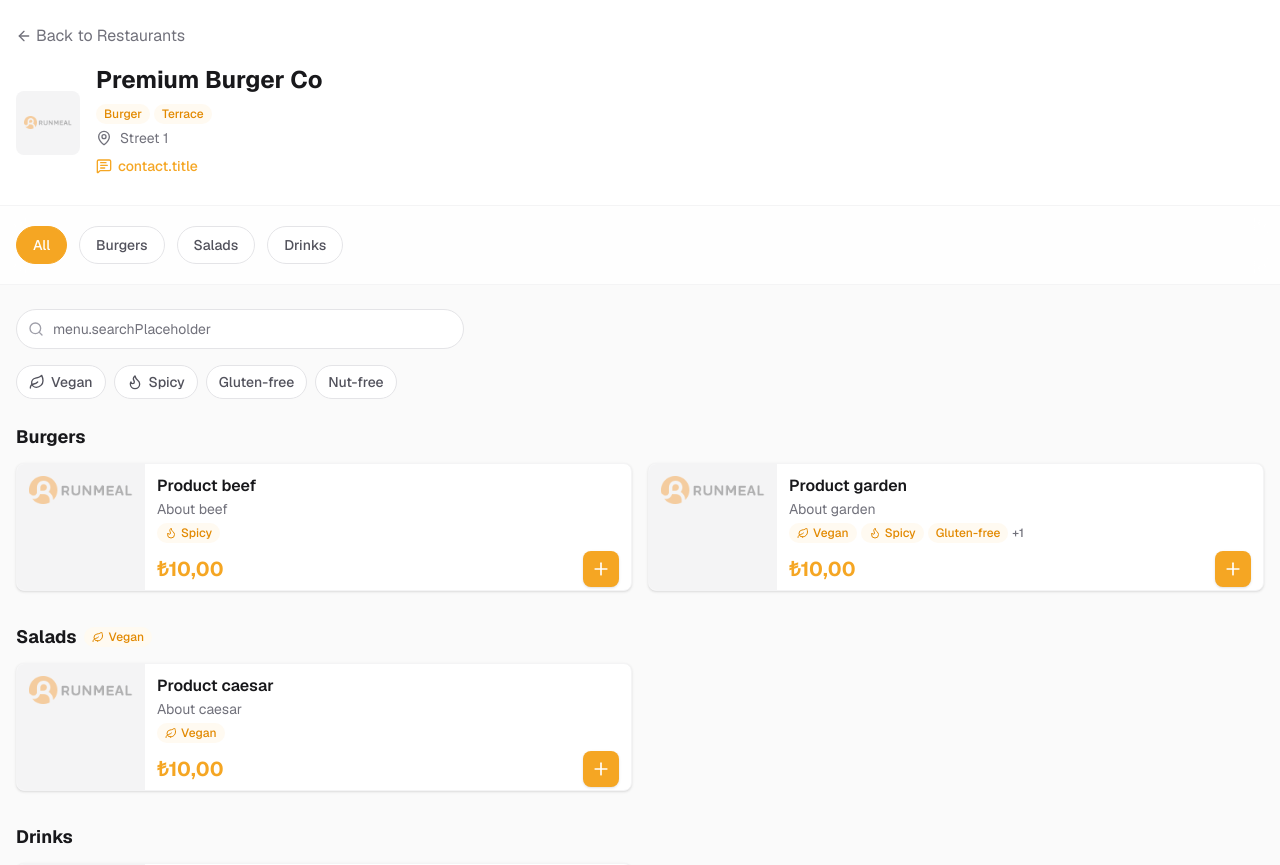
Test case: <BranchView /> menu tags › offers quick filters for the tags on the menu, and hides categories left empty
What coordinates should you click on to do the following:
click the button "Vegan"
I would click on:
 (61, 382)
Its box is [16, 365, 106, 399].
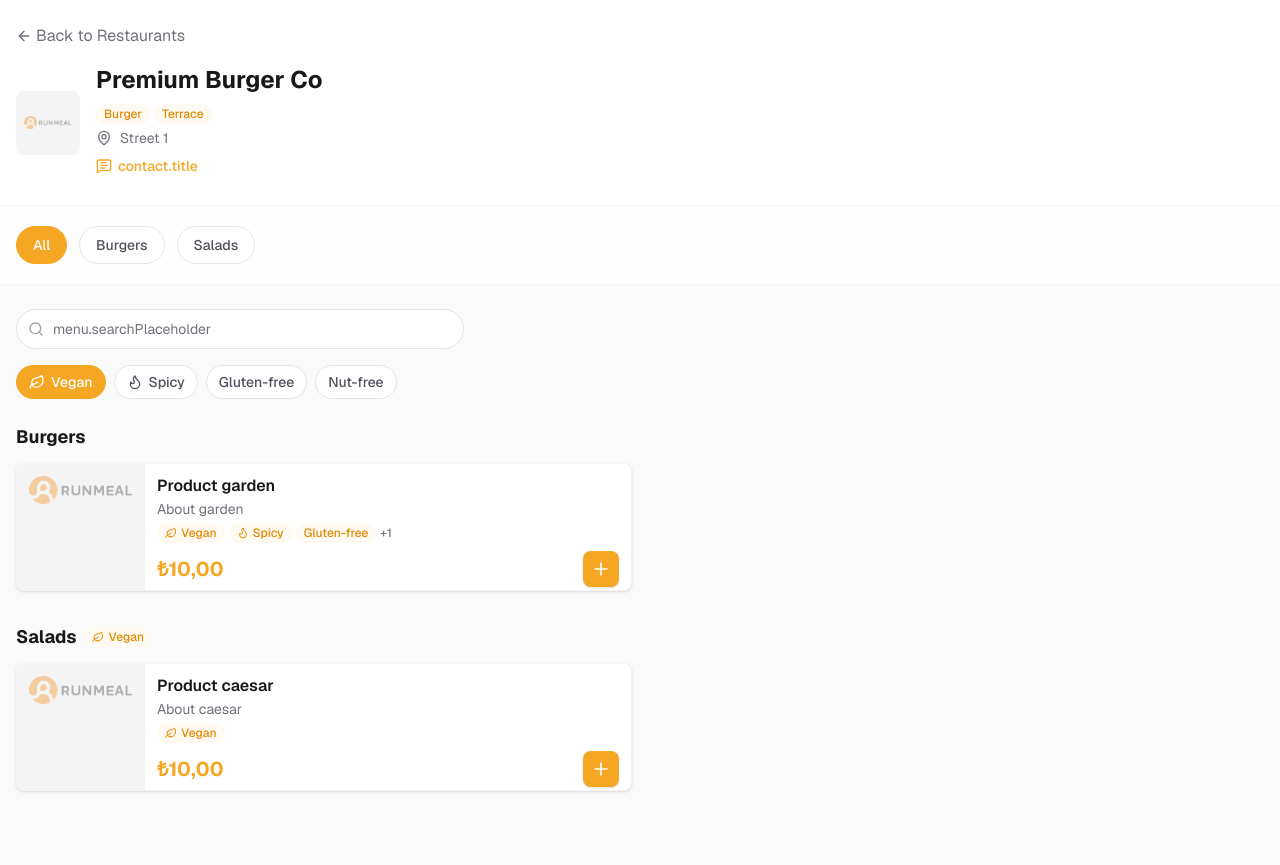
expect the heading "Product garden" is shown: met, box [157, 475, 275, 496]
expect the heading "Product beef" is gone: met
expect the button "Drinks" is gone: met
What coordinates should you click on to do the following:
click the button "Vegan"
I would click on:
 (61, 382)
Its box is [16, 365, 106, 399].
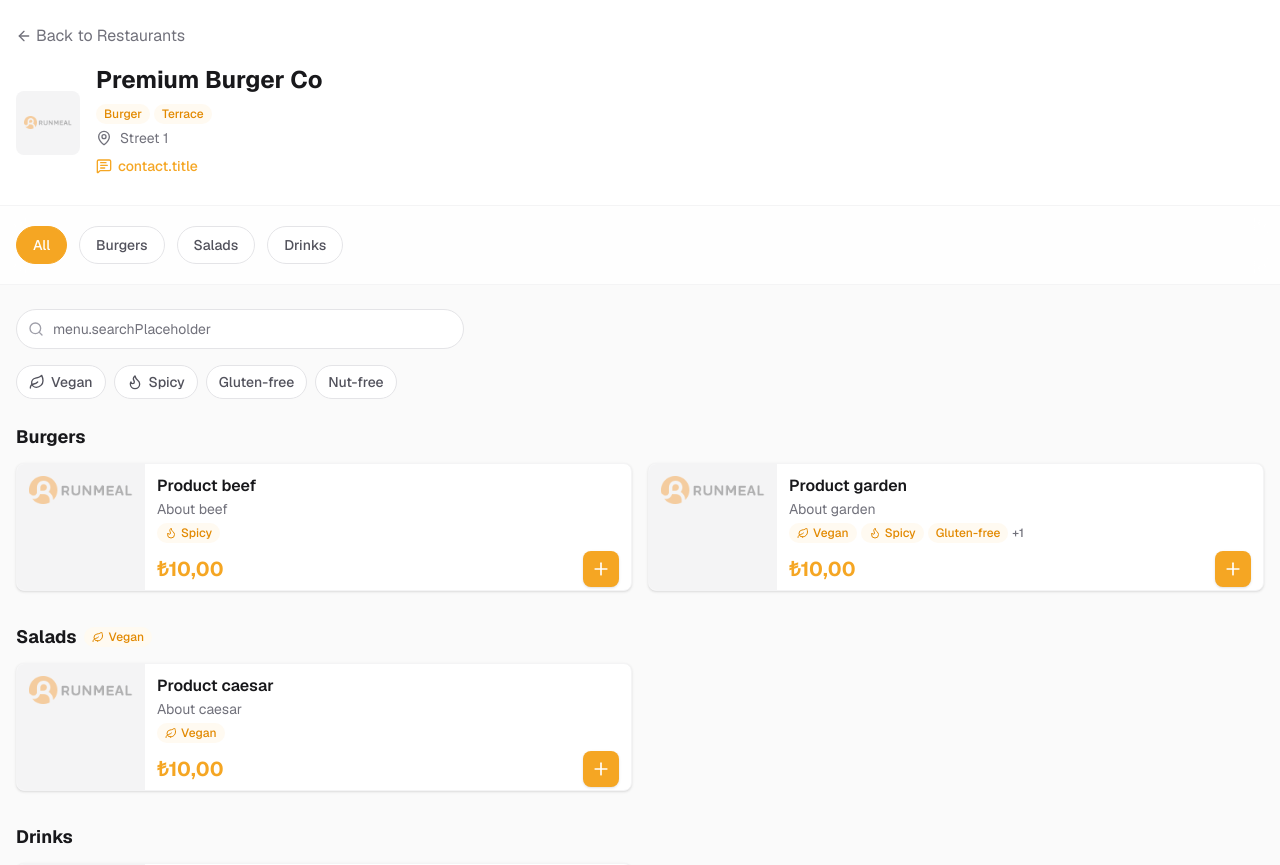
expect the heading "Product beef" is shown: met, box [157, 475, 256, 496]
